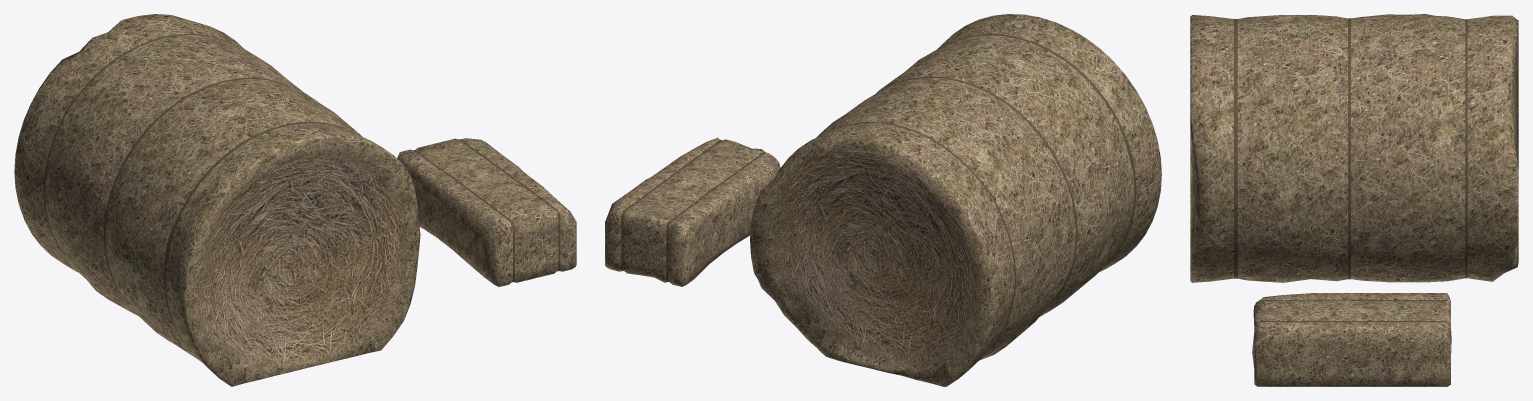
Rendered from hay.glb.
3 renders of one model, left to right at view 1: azimuth 30°, elevation 25°; view 2: azimuth 150°, elevation 25°; view 3: azimuth 270°, elevation 25°, orthographic. The views are drawn at different scales.
Parts seen in each view (by area): view 1: m; view 2: m; view 3: m.
Boxes of the visible parts, bbox=[...] form: m: bbox=[14, 14, 576, 386]; m: bbox=[605, 14, 1161, 386]; m: bbox=[1190, 14, 1518, 386].
Size of the model in its own units: 3.55 by 1.81 by 2.42.
1 material, 1 textured.
